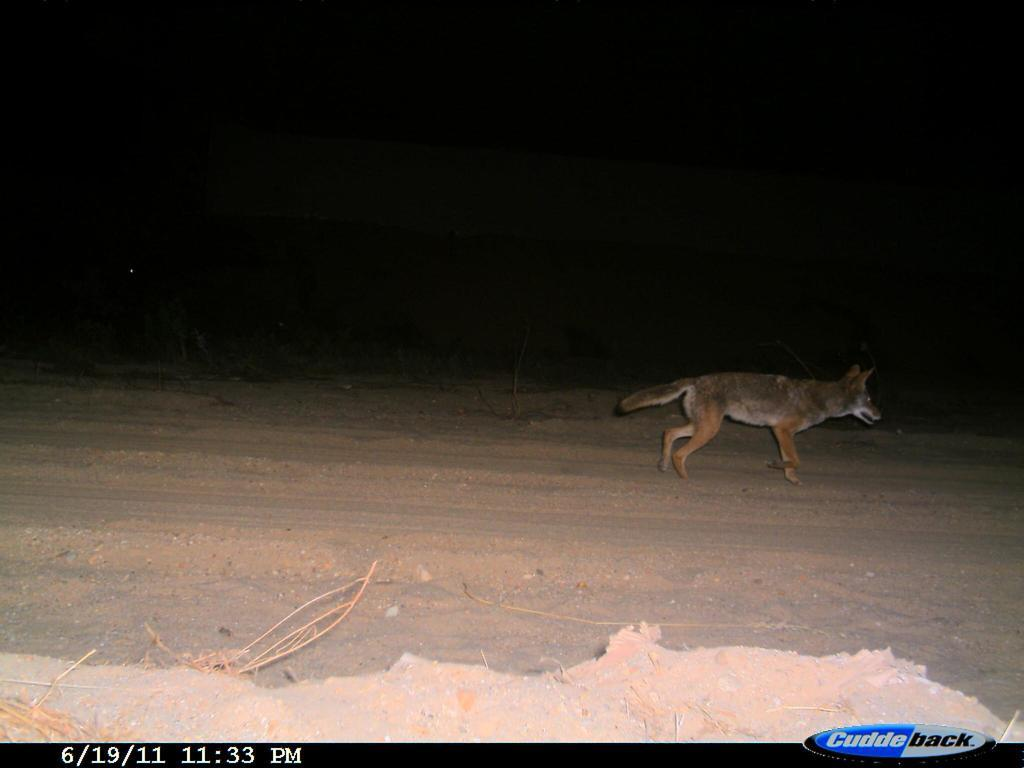coyote: (606, 359, 890, 488)
